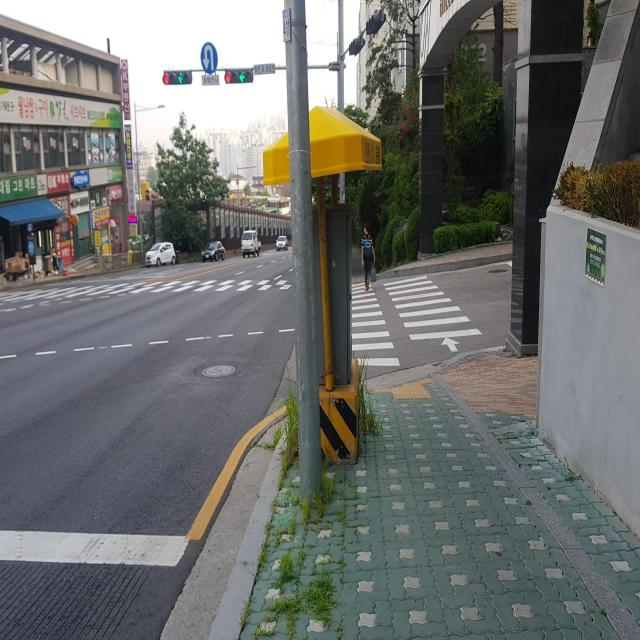횡단보도: (350, 274, 482, 368), (0, 276, 299, 296)
